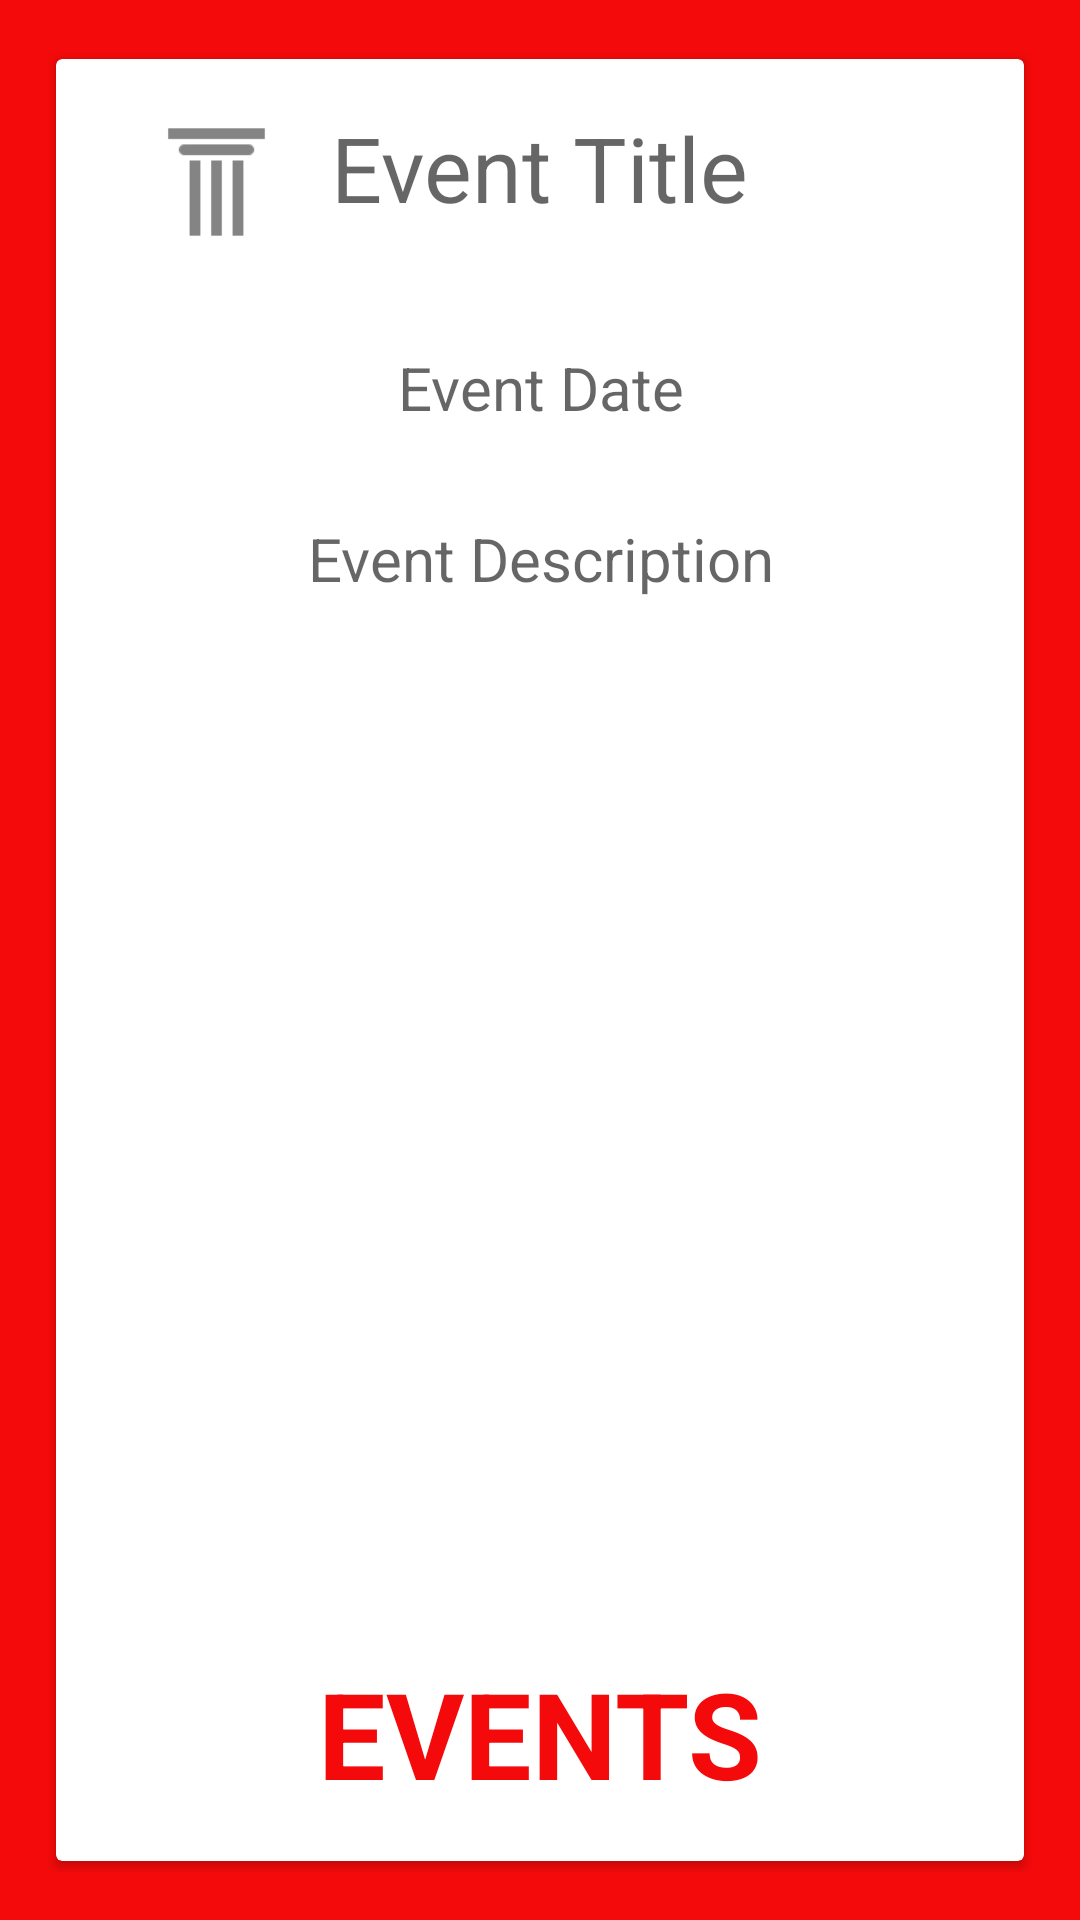

Icons on this 1080 × 1920 Android screen, each with the point to tap as (x=x, y=y):
pillar: (x=216, y=182)
